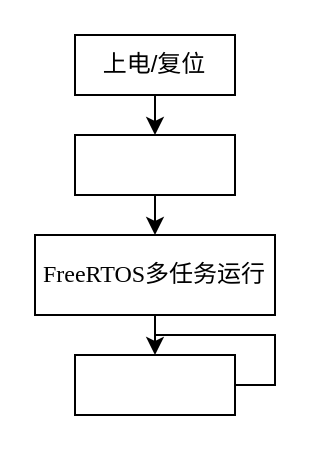
Some shapes in this 312 by 450 pixel diagram are drawn without their labels. Each missing label, with the centre of its shape:
主循环: the point at 154,384
系统初始化: the point at 154,164
